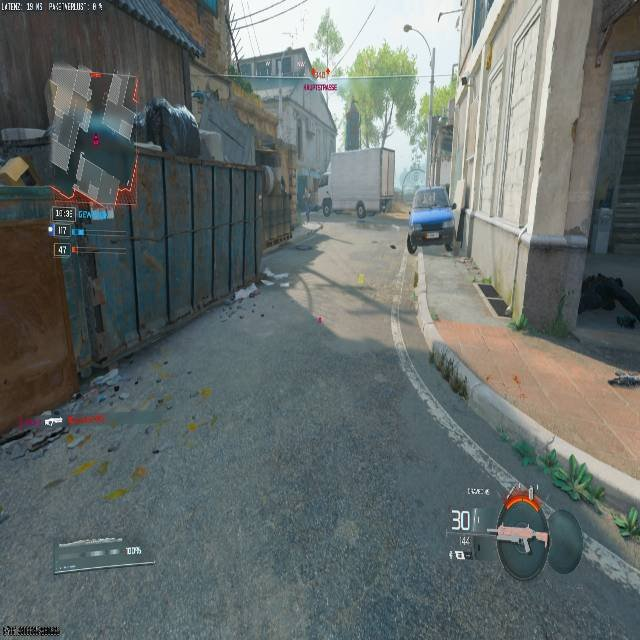player: (322, 192, 331, 218), (303, 197, 312, 222), (355, 199, 366, 219)
